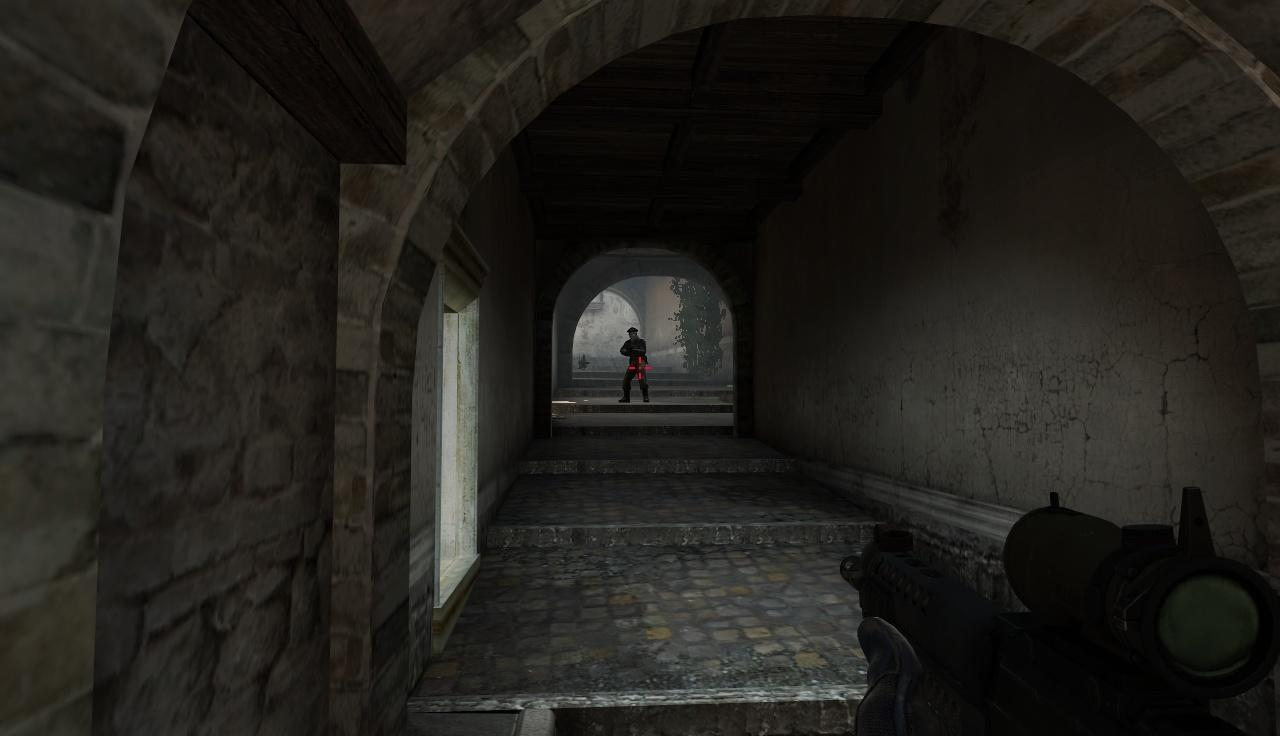rifle: (844, 481, 1280, 736)
tt: (619, 327, 649, 402)
tthead: (628, 327, 638, 340)
